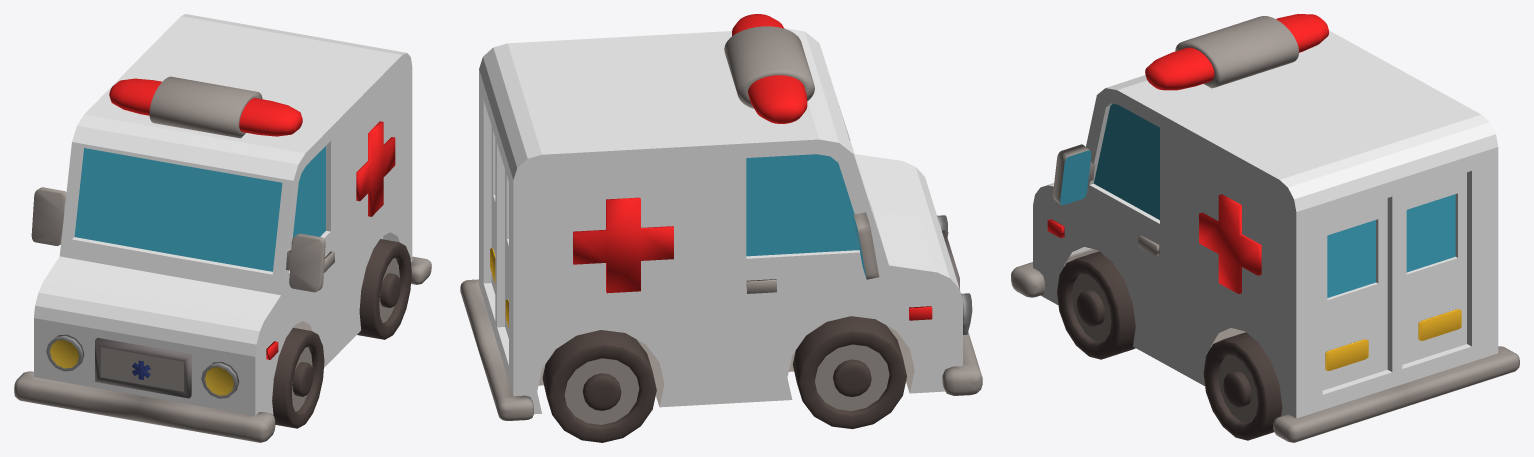
Rendered from ambulance_8.glb.
3 views of the same model, side by side, from view 1: azimuth 30°, elevation 25°; view 2: azimuth 150°, elevation 25°; view 3: azimuth 270°, elevation 25° (orthographic). The views are drawn at different scales.
Visible parts, largest first — view 1: Body_1, SirenLight_9, front bumper_6, RearLeftWheel_13, Front_21, FrontLeftWheel_4, signL_7, MirrorL_3, Mirror R_2, HeadlightL_20, HeadlightR_19, rear bumper_5; view 2: Body_1, FrontRightWheel_12, RearRightWheel_14, SirenLight_9, SignR_8, rear bumper_5, front bumper_6, Mirror R_2; view 3: Body_1, SirenLight_9, FrontLeftWheel_4, RearLeftWheel_13, rear bumper_5, signL_7, MirrorL_3, front bumper_6, TaillightL_17, TaillightR_18.
Part boxes in pixels (box(x1,y1,x2,y2)): Body_1: box(34, 14, 412, 415); SirenLight_9: box(109, 76, 302, 138); front bumper_6: box(14, 371, 275, 442); RearLeftWheel_13: box(357, 239, 411, 339); Front_21: box(95, 338, 191, 398); FrontLeftWheel_4: box(272, 327, 324, 428); signL_7: box(356, 121, 395, 216); MirrorL_3: box(286, 233, 325, 292); Mirror R_2: box(31, 187, 66, 245); HeadlightL_20: box(201, 362, 239, 398); HeadlightR_19: box(46, 334, 84, 371); rear bumper_5: box(411, 256, 431, 284); Body_1: box(479, 28, 962, 414); FrontRightWheel_12: box(792, 316, 906, 429); RearRightWheel_14: box(542, 330, 656, 442); SirenLight_9: box(724, 14, 814, 123); SignR_8: box(573, 197, 673, 293); rear bumper_5: box(460, 279, 533, 420); front bumper_6: box(942, 332, 982, 395); Mirror R_2: box(853, 212, 879, 279); Body_1: box(1033, 30, 1498, 418); SirenLight_9: box(1145, 14, 1328, 90); FrontLeftWheel_4: box(1057, 251, 1135, 359); RearLeftWheel_13: box(1203, 332, 1282, 440); rear bumper_5: box(1273, 346, 1519, 442); signL_7: box(1199, 194, 1261, 293); MirrorL_3: box(1053, 144, 1095, 205); front bumper_6: box(1011, 249, 1098, 297); TaillightL_17: box(1325, 339, 1368, 370); TaillightR_18: box(1418, 309, 1461, 340).
Size of the model in its own units: 1.56 by 0.9821 by 1.46.
7 materials, 3 textured.
